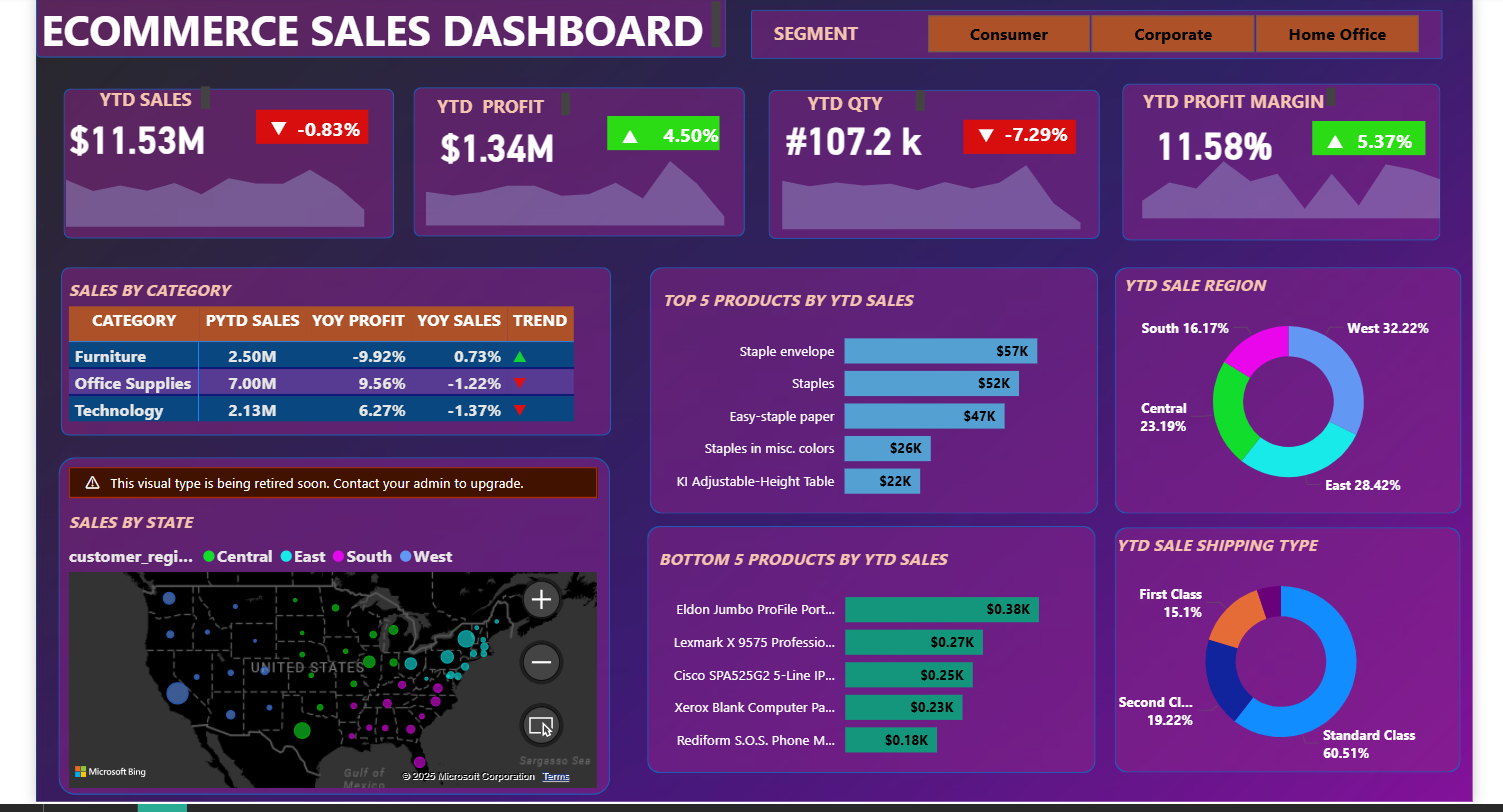

What the dashboard file says about the page in this screenshot:
{"tool":"powerbi","page":{"name":"Page 1","canvas":[1280,720],"ordinal":0},"visuals":[{"type":"shape","box":[966.9,78.3,283.4,139.9],"z":0},{"type":"shape","box":[0,0,614.8,54.9],"z":1000},{"type":"textbox","box":[0,0,614.8,54.9],"z":2000},{"type":"shape","box":[24.5,82.2,294.5,133.7],"z":3000},{"type":"card","fields":{"Values":["ecommerce_data.YTD SALE"]},"box":[12.3,97.4,156.4,56.3],"z":4000},{"type":"areaChart","fields":{"Category":["calender.month"],"Y":["Sum(ecommerce_data.sales_per_order)"]},"box":[11.8,132,295,78.2],"z":5000},{"type":"shape","box":[196.2,101.5,100.2,30.2],"z":6000},{"type":"card","fields":{"Values":["ecommerce_data.YOY"]},"box":[226.4,104.3,70,24.7],"z":7000},{"type":"card","fields":{"Values":["ecommerce_data.SALESE ICON"]},"box":[196.2,102.9,41.2,23.3],"z":8000},{"type":"textbox","box":[44.2,76.1,115.3,30.7],"z":9000},{"type":"shape","box":[335.8,81,295,133.1],"z":10000},{"type":"card","fields":{"Values":["ecommerce_data.YTD PROFIT"]},"box":[333.3,104.5,156.4,56.3],"z":11000},{"type":"areaChart","fields":{"Category":["calender.month"],"Y":["Sum(ecommerce_data.profit_per_order)"]},"box":[333.1,131.8,295,78.2],"z":12000},{"type":"shape","box":[508.9,107,100.2,30.2],"z":13000},{"type":"card","fields":{"Values":["ecommerce_data.YOY PROFIT"]},"box":[548.7,109.7,70,24.7],"z":14000},{"type":"card","fields":{"Values":["ecommerce_data.PROFIT ICON"]},"box":[508.9,109.7,41.2,23.3],"z":15000},{"type":"textbox","box":[337.7,81.5,143.6,30.7],"z":16000},{"type":"shape","box":[652.6,83.7,295,133.1],"z":17000},{"type":"card","fields":{"Values":["ecommerce_data.YTD CONCATENATED QTY"]},"box":[649.8,98.8,156.4,56.3],"z":18000},{"type":"areaChart","fields":{"Category":["calender.month"],"Y":["Sum(ecommerce_data.order_quantity)"]},"box":[649.8,134.5,295,78.2],"z":19000},{"type":"shape","box":[825.6,109.7,100.2,30.2],"z":20000},{"type":"card","fields":{"Values":["ecommerce_data.YOY QTY"]},"box":[856.3,109,70,24.7],"z":21000},{"type":"card","fields":{"Values":["ecommerce_data.OTY ICON"]},"box":[826.1,109,41.2,23.3],"z":22000},{"type":"textbox","box":[652.7,79.5,144.1,30.2],"z":23000},{"type":"shape","box":[636.8,12.3,616,44.2],"z":24000},{"type":"card","fields":{"Values":["ecommerce_data.YTD PROFIT MARGIN"]},"box":[970.6,103.1,157.1,55.2],"z":25000},{"type":"shape","box":[1136.2,111.7,100.6,30.7],"z":26000},{"type":"areaChart","fields":{"Category":["calender.month"],"Y":["calender.PROFIT MARGIN"]},"box":[970.8,124.9,294.5,78.5],"z":27000},{"type":"card","fields":{"Values":["ecommerce_data.YOY PROFIT MARGIN"]},"box":[1166.9,115.3,69.9,24.5],"z":28000},{"type":"card","fields":{"Values":["ecommerce_data.PROFIT MARGIN ICON"]},"box":[1136.2,114.1,41.7,23],"z":29000},{"type":"textbox","box":[979.1,77.1,182.8,28.2],"z":30000},{"type":"shape","box":[22,241.5,490,150],"z":31000},{"type":"pivotTable","title":"SALES BY CATEGORY","fields":{"Rows":["ecommerce_data.category_name"],"Values":["ecommerce_data.PVTD SALES","ecommerce_data.YOY PROFIT","ecommerce_data.YOY SALES","ecommerce_data.SALESE ICON"]},"box":[24.7,251.1,487.1,149.6],"z":32000},{"type":"shape","box":[20.6,410.3,491.3,300.5],"z":33000},{"type":"shape","box":[546.1,241.5,399.3,219.6],"z":34000},{"type":"map","title":"SALES BY STATE","fields":{"Y":["us_state_long_lat_codes.latitude"],"X":["us_state_long_lat_codes.longitude"],"Size":["ecommerce_data.YTD SALE"],"Series":["ecommerce_data.customer_region"]},"box":[24.7,419.9,480.3,290.9],"z":35000},{"type":"shape","box":[544.8,472,399.3,220],"z":36000},{"type":"clusteredBarChart","title":"TOP 5 PRODUCTS BY YTD SALES","fields":{"Category":["ecommerce_data.product_name"],"Y":["ecommerce_data.YTD SALE"]},"box":[553,260.7,388.3,200.3],"z":37000},{"type":"clusteredBarChart","title":"BOTTOM 5 PRODUCTS BY YTD SALES","fields":{"Category":["ecommerce_data.product_name"],"Y":["ecommerce_data.YTD SALE"]},"box":[550.3,491.3,388.3,200.3],"z":38000},{"type":"shape","box":[960.6,241.5,308.7,219.6],"z":39000},{"type":"shape","box":[960.7,473.6,308,218.4],"z":40000},{"type":"donutChart","title":"YTD SALE  REGION","fields":{"Category":["ecommerce_data.customer_region"],"Y":["ecommerce_data.YTD SALE"]},"box":[964.4,246.6,303.1,208.6],"z":41000},{"type":"donutChart","title":"YTD SALE  SHIPPING TYPE","fields":{"Y":["ecommerce_data.YTD SALE"],"Category":["ecommerce_data.shipping_type"]},"box":[957.1,478.5,303.1,208.6],"z":42000},{"type":"slicer","fields":{"Values":["ecommerce_data.customer_segment"]},"box":[768.1,9.8,487.1,46.6],"z":43000},{"type":"textbox","box":[652.8,17.2,115.3,38],"z":44000}]}

Visuals, with their boxes on the page's 1280x720 design canvas (x1, y1, x2, y2). These are canvas units, not pixel positions in the 1503x812 screenshot, which may show the page scaled, cropped or inside an application window:
shape: bbox=(967, 78, 1250, 218)
shape: bbox=(0, 0, 615, 55)
textbox: bbox=(0, 0, 615, 55)
shape: bbox=(24, 82, 319, 216)
card - ecommerce_data.YTD SALE: bbox=(12, 97, 169, 154)
areaChart - calender.month x Sum(ecommerce_data.sales_per_order): bbox=(12, 132, 307, 210)
shape: bbox=(196, 102, 296, 132)
card - ecommerce_data.YOY: bbox=(226, 104, 296, 129)
card - ecommerce_data.SALESE ICON: bbox=(196, 103, 237, 126)
textbox: bbox=(44, 76, 160, 107)
shape: bbox=(336, 81, 631, 214)
card - ecommerce_data.YTD PROFIT: bbox=(333, 104, 490, 161)
areaChart - calender.month x Sum(ecommerce_data.profit_per_order): bbox=(333, 132, 628, 210)
shape: bbox=(509, 107, 609, 137)
card - ecommerce_data.YOY PROFIT: bbox=(549, 110, 619, 134)
card - ecommerce_data.PROFIT ICON: bbox=(509, 110, 550, 133)
textbox: bbox=(338, 82, 481, 112)
shape: bbox=(653, 84, 948, 217)
card - ecommerce_data.YTD CONCATENATED QTY: bbox=(650, 99, 806, 155)
areaChart - calender.month x Sum(ecommerce_data.order_quantity): bbox=(650, 134, 945, 213)
shape: bbox=(826, 110, 926, 140)
card - ecommerce_data.YOY QTY: bbox=(856, 109, 926, 134)
card - ecommerce_data.OTY ICON: bbox=(826, 109, 867, 132)
textbox: bbox=(653, 80, 797, 110)
shape: bbox=(637, 12, 1253, 56)
card - ecommerce_data.YTD PROFIT MARGIN: bbox=(971, 103, 1128, 158)
shape: bbox=(1136, 112, 1237, 142)
areaChart - calender.month x calender.PROFIT MARGIN: bbox=(971, 125, 1265, 203)
card - ecommerce_data.YOY PROFIT MARGIN: bbox=(1167, 115, 1237, 140)
card - ecommerce_data.PROFIT MARGIN ICON: bbox=(1136, 114, 1178, 137)
textbox: bbox=(979, 77, 1162, 105)
shape: bbox=(22, 242, 512, 392)
"SALES BY CATEGORY" pivotTable: bbox=(25, 251, 512, 401)
shape: bbox=(21, 410, 512, 711)
shape: bbox=(546, 242, 945, 461)
"SALES BY STATE" map: bbox=(25, 420, 505, 711)
shape: bbox=(545, 472, 944, 692)
"TOP 5 PRODUCTS BY YTD SALES" clusteredBarChart: bbox=(553, 261, 941, 461)
"BOTTOM 5 PRODUCTS BY YTD SALES" clusteredBarChart: bbox=(550, 491, 939, 692)
shape: bbox=(961, 242, 1269, 461)
shape: bbox=(961, 474, 1269, 692)
"YTD SALE  REGION" donutChart: bbox=(964, 247, 1268, 455)
"YTD SALE  SHIPPING TYPE" donutChart: bbox=(957, 478, 1260, 687)
slicer - ecommerce_data.customer_segment: bbox=(768, 10, 1255, 56)
textbox: bbox=(653, 17, 768, 55)
